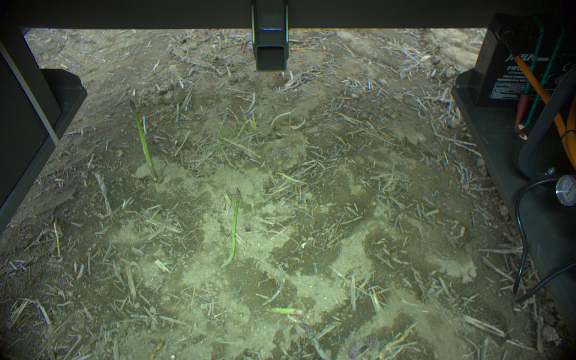aspa: (127, 97, 159, 182), (220, 185, 243, 270), (295, 320, 332, 360), (345, 332, 377, 358), (265, 304, 306, 317)
